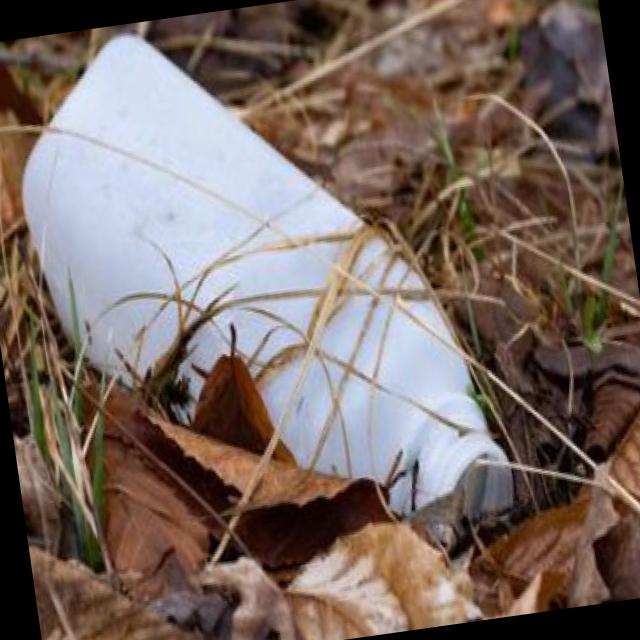general: (0, 0, 523, 590)
